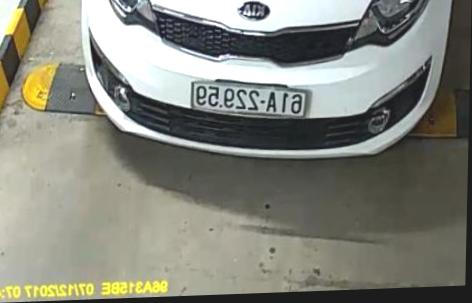License_Plate: (185, 80, 312, 120)
